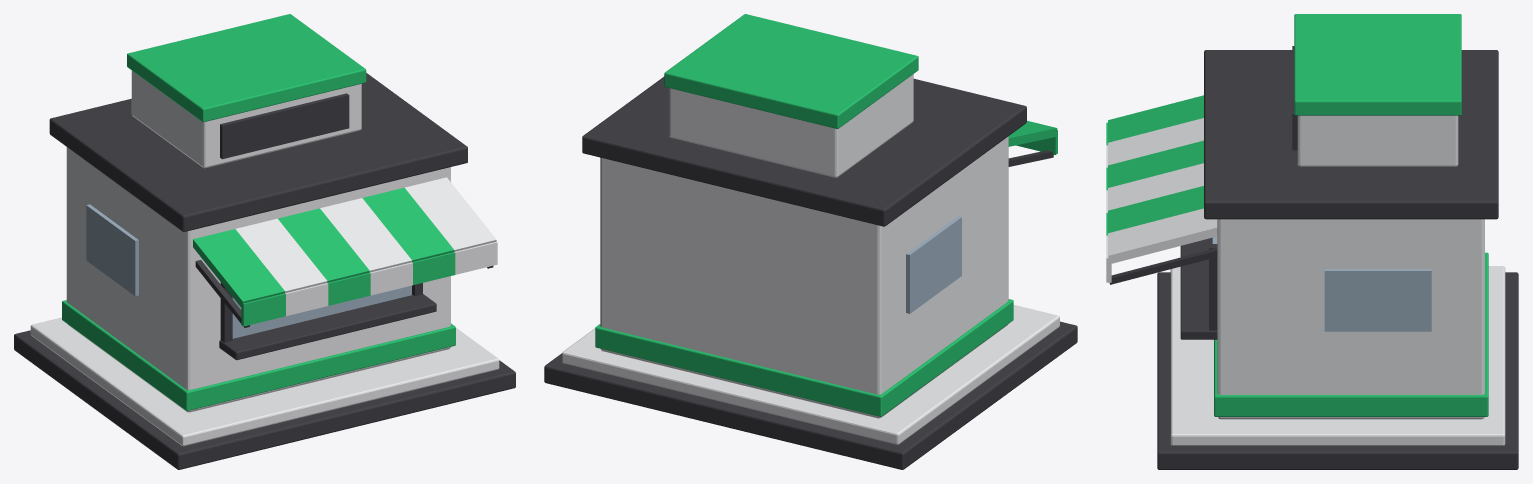
The model's file is kiosk.glb.
3 views of the same model, side by side, from view 1: azimuth 30°, elevation 25°; view 2: azimuth 150°, elevation 25°; view 3: azimuth 270°, elevation 25° (orthographic). The views are drawn at different scales.
Visible parts, largest first — view 1: kiosk; view 2: kiosk; view 3: kiosk.
Part boxes in pixels (x1=…): kiosk: x1=14, y1=14, x2=515, y2=469; kiosk: x1=544, y1=14, x2=1077, y2=469; kiosk: x1=1106, y1=14, x2=1518, y2=469.
Size of the model in its own units: 6.4 by 5.32 by 6.16.
